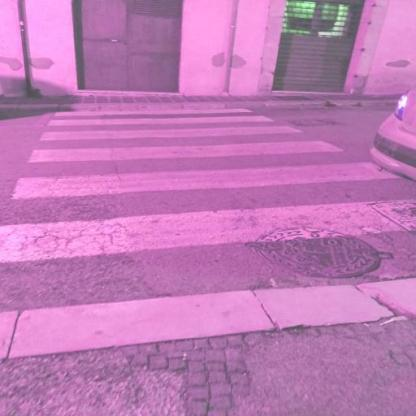crosswalk: (22, 124, 346, 167)
